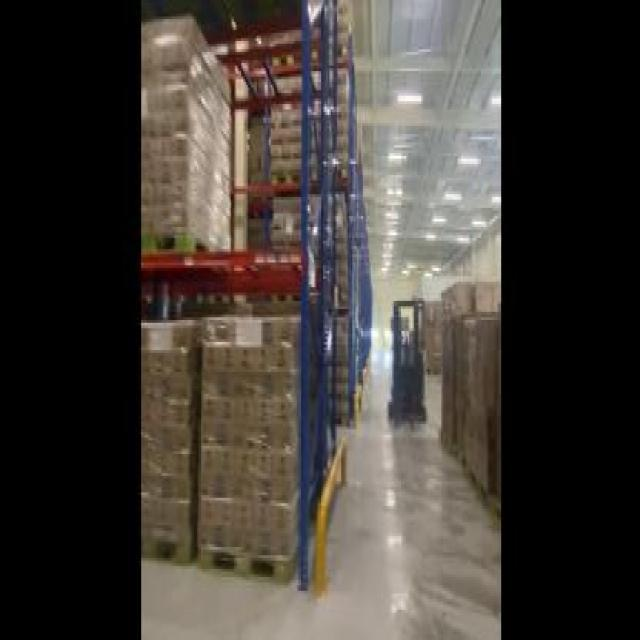box: (257, 0, 371, 421), (199, 314, 306, 590), (143, 16, 231, 260), (432, 306, 502, 522), (141, 322, 197, 560), (419, 271, 503, 380)
robot: (386, 284, 426, 430)
